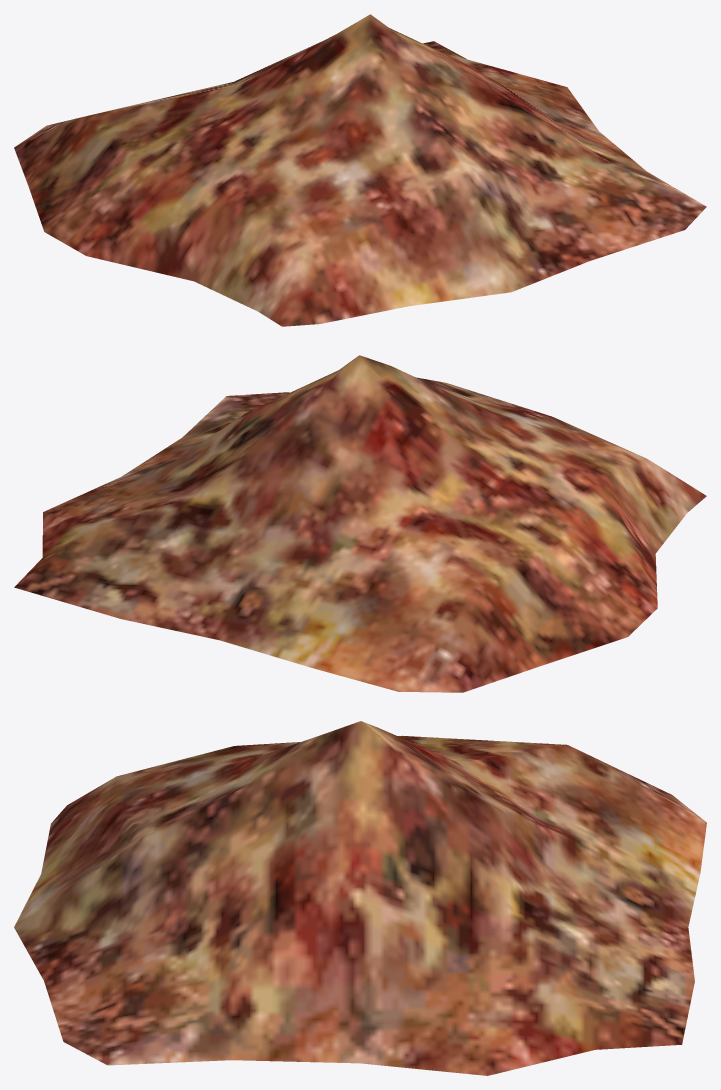
File: edb_food_meat_ground_l1.fbx
3 views of the same model, one above another, from view 1: azimuth 30°, elevation 25°; view 2: azimuth 150°, elevation 25°; view 3: azimuth 270°, elevation 25° (orthographic). The views are drawn at different scales.
Visible parts, largest first — view 1: mesh_node; view 2: mesh_node; view 3: mesh_node.
Boxes of the visible parts, x1,y1,x2,y2 form: mesh_node: [14, 14, 706, 326]; mesh_node: [14, 355, 706, 692]; mesh_node: [14, 721, 706, 1075].
Size of the model in its own units: 0.1988 by 0.0605 by 0.1828.
1 material, 1 textured.
